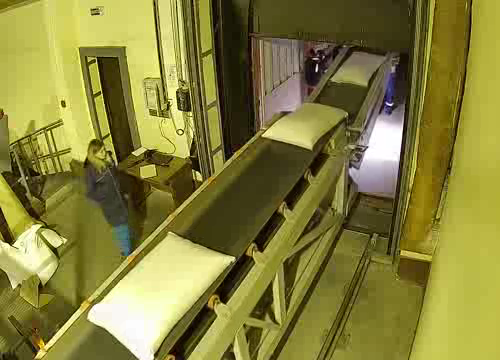bag: (86, 231, 236, 359), (260, 102, 349, 151), (330, 50, 389, 87)
